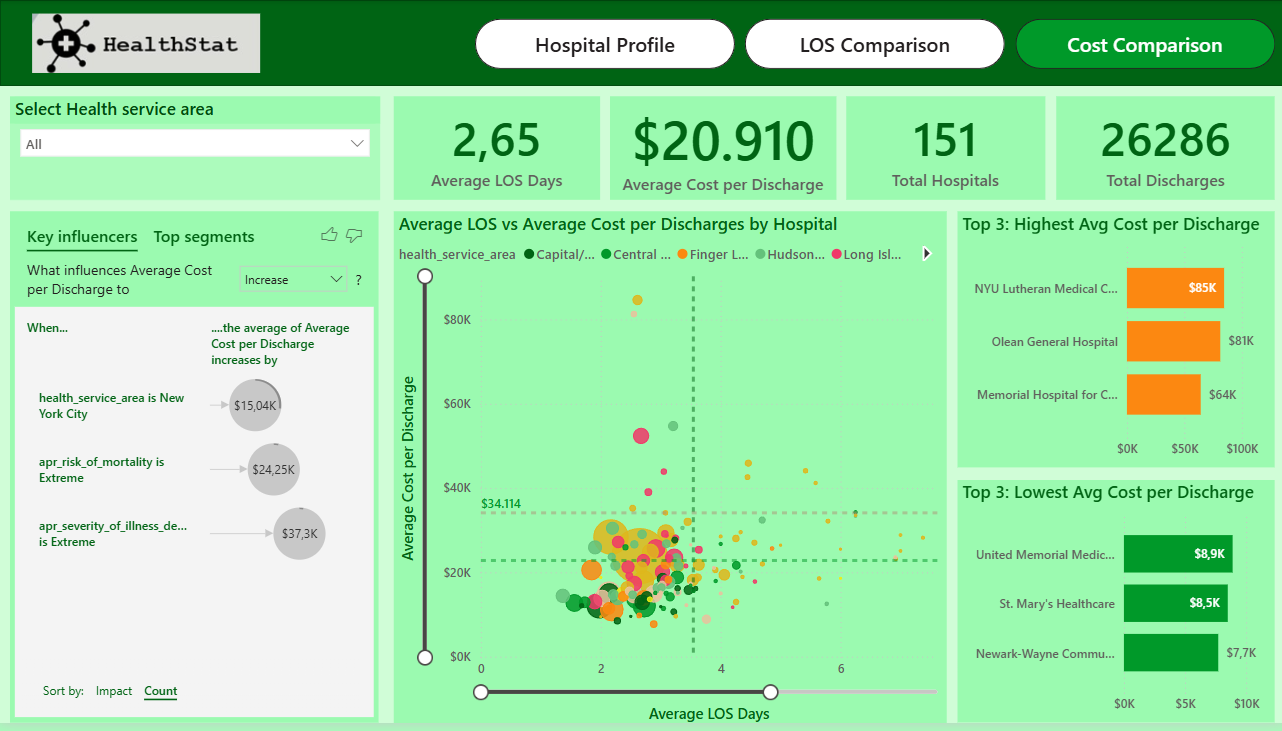

The dashboard page shown, as its layout file describes it:
{"tool":"powerbi","page":{"name":"Cost Comparison","canvas":[1280,720],"ordinal":2},"visuals":[{"type":"scatterChart","title":"Average LOS vs Average Cost per Discharges by Hospital","fields":{"X":["_Measures.Average LOS Days"],"Y":["_Measures.Average Cost per Discharge"],"Category":["hospital_discharges.facility_name"],"Size":["_Measures.Total Discharges"],"Series":["hospital_discharges.health_service_area"]},"box":[392.3,210.5,550.5,509.4],"z":0},{"type":"slicer","title":"Select Health service area","fields":{"Values":["hospital_discharges.health_service_area"]},"box":[10,95.9,368.6,103.4],"z":1000},{"type":"keyDriversVisual","fields":{"ExplainBy":["Surgical_program_volume_summary.Surgical Program Size","hospital_discharges.health_service_area","hospital_discharges.gender","hospital_discharges.patient_disposition","hospital_discharges.ccs_diagnosis_description","hospital_discharges.apr_severity_of_illness_description","hospital_discharges.apr_risk_of_mortality","hospital_discharges.Age Bins"],"Target":["_Measures.Average Cost per Discharge"]},"box":[10,210.5,367.4,509.4],"z":2000},{"type":"clusteredBarChart","title":"Top 3: Highest Avg Cost per Discharge","fields":{"Category":["hospital_discharges.facility_name"],"Y":["_Measures.Average Cost per Discharge"]},"box":[954,210.5,316.3,255.3],"z":3000},{"type":"clusteredBarChart","title":"Top 3: Lowest Avg Cost per Discharge","fields":{"Y":["_Measures.Average Cost per Discharge"],"Category":["hospital_discharges.facility_name"]},"box":[954,478.2,316.3,241.6],"z":4000},{"type":"card","fields":{"Values":["_Measures.Average LOS Days"]},"box":[392.3,95.9,205.5,103.4],"z":5000},{"type":"card","fields":{"Values":["_Measures.Average Cost per Discharge"]},"box":[607.7,95.9,225.4,103.4],"z":6000},{"type":"card","fields":{"Values":["_Measures.Total Hospitals"]},"box":[843.1,95.9,198,103.4],"z":7000},{"type":"card","fields":{"Values":["_Measures.Total Discharges"]},"box":[1052.3,95.9,217.9,103.4],"z":8000},{"type":"shape","box":[0,0,1280,85.7],"z":9000},{"type":"image","box":[0,8.4,290.8,68.8],"z":10000},{"type":"pageNavigator","box":[472.9,18.1,797.5,50.7],"z":11000}]}

Visuals, with their boxes in screenshot pixels (x1, y1, x2, y2), scaled from the page's 1280x720 canvas onto the 1282x731 screenshot:
"Average LOS vs Average Cost per Discharges by Hospital" scatterChart: (393, 214, 944, 730)
"Select Health service area" slicer: (10, 97, 379, 202)
keyDriversVisual - Surgical_program_volume_summary.Surgical Program Size x hospital_discharges.health_service_area: (10, 214, 378, 730)
"Top 3: Highest Avg Cost per Discharge" clusteredBarChart: (955, 214, 1272, 473)
"Top 3: Lowest Avg Cost per Discharge" clusteredBarChart: (955, 486, 1272, 730)
card - _Measures.Average LOS Days: (393, 97, 599, 202)
card - _Measures.Average Cost per Discharge: (609, 97, 834, 202)
card - _Measures.Total Hospitals: (844, 97, 1043, 202)
card - _Measures.Total Discharges: (1054, 97, 1272, 202)
shape: (0, 0, 1281, 87)
image: (0, 9, 291, 78)
pageNavigator: (474, 18, 1272, 70)
